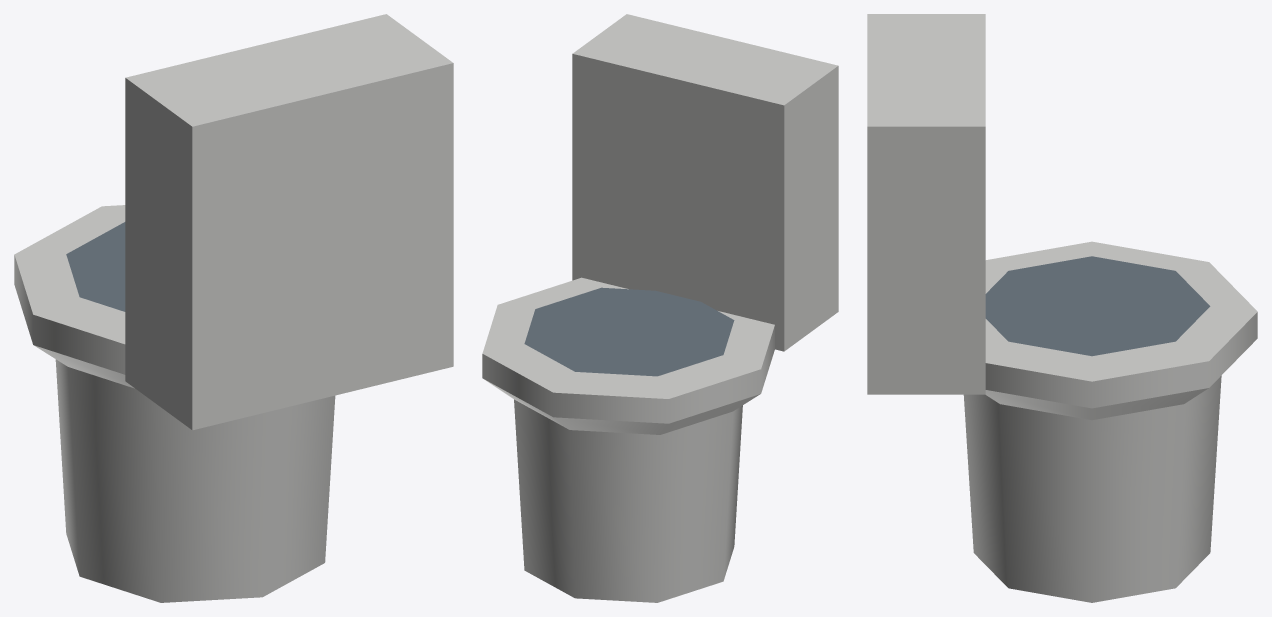
File: toilet.glb
3 renders of one model, left to right at view 1: azimuth 30°, elevation 25°; view 2: azimuth 150°, elevation 25°; view 3: azimuth 270°, elevation 25°, orthographic. The views are drawn at different scales.
Parts seen in each view (by area): view 1: Toilet; view 2: Toilet; view 3: Toilet.
Boxes of the visible parts, x1,y1,x2,y2 form: Toilet: (14,14,453,602); Toilet: (482,14,838,602); Toilet: (867,14,1257,602).
Bounding box in the file's own units: 0.56 × 0.9 × 0.66.
